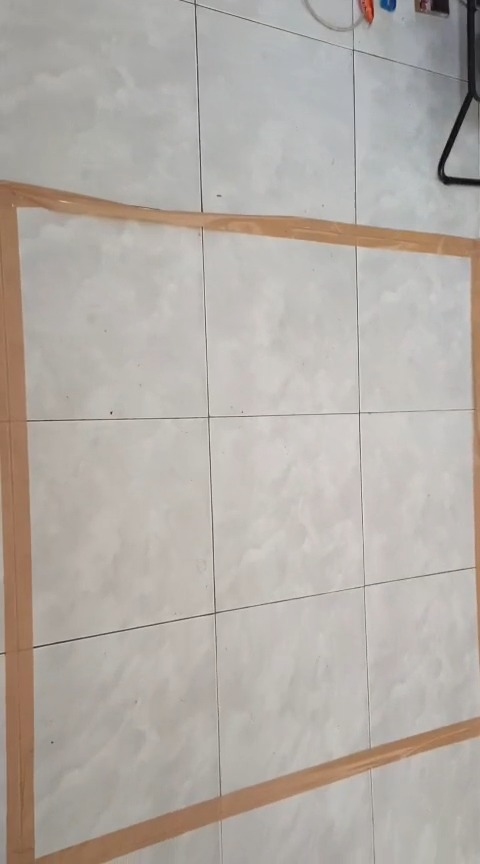floor marking: (0, 181, 479, 863), (36, 717, 479, 863)
